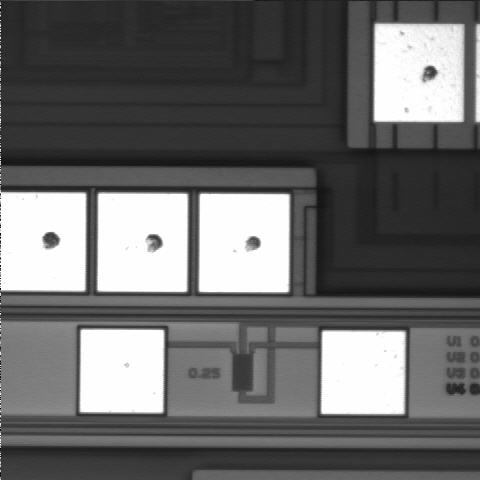pad: (98, 193, 188, 292), (199, 194, 289, 292), (374, 24, 463, 122), (80, 330, 164, 413), (321, 331, 405, 414)
